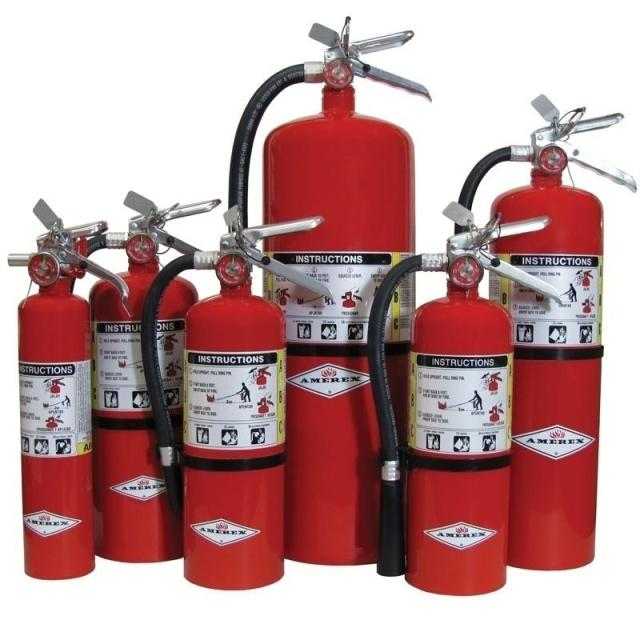fire_extinguisher: (220, 12, 435, 573), (443, 88, 639, 576), (360, 201, 568, 599), (133, 202, 337, 598), (80, 190, 226, 566), (0, 193, 132, 582)
